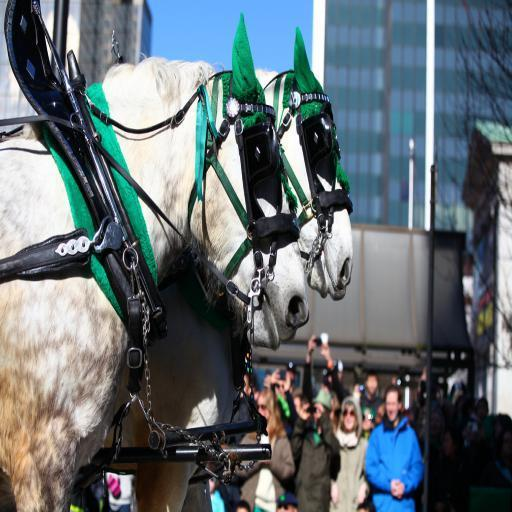horse: (0, 10, 309, 512), (102, 24, 354, 512)
